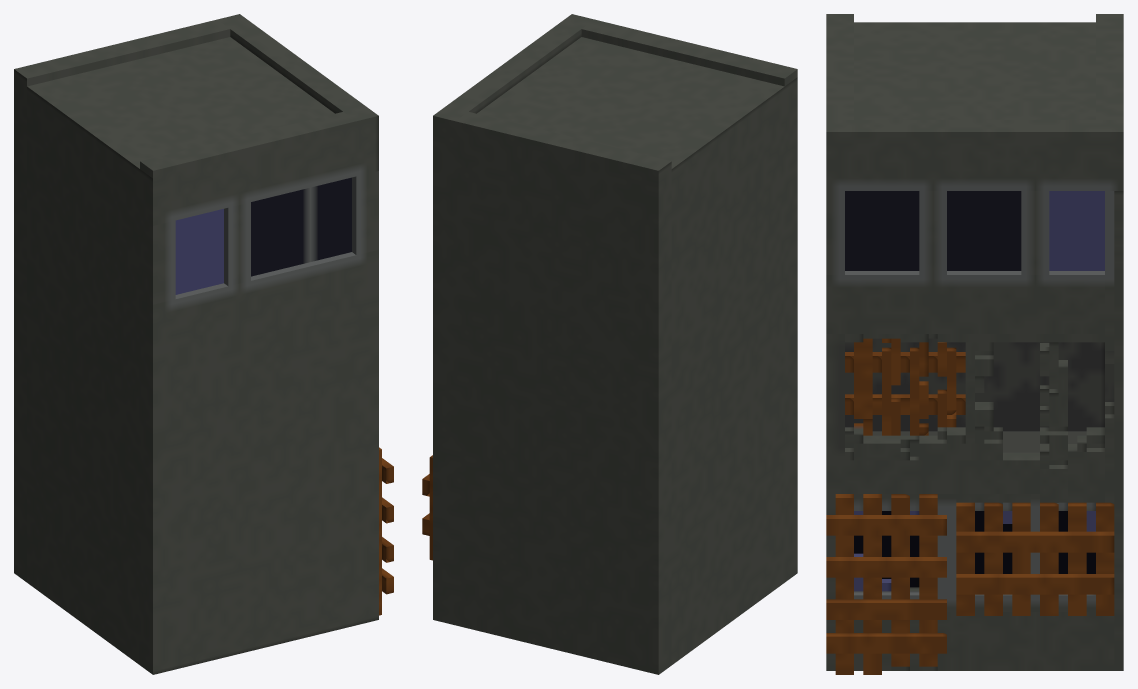
The model's file is u_dwie_strony_zniszczone.dae.
The picture shows the model from 3 angles, left to right: view 1: azimuth 30°, elevation 25°; view 2: azimuth 150°, elevation 25°; view 3: azimuth 270°, elevation 25°; orthographic projection. The views are drawn at different scales.
Visible parts, largest first — view 1: Content; view 2: Content; view 3: Content.
Boxes of the visible parts, x1,y1,x2,y2 form: Content: [14, 14, 393, 674]; Content: [422, 14, 797, 674]; Content: [826, 14, 1123, 674].
Size of the model in its own units: 32 by 64 by 32.
1 material, 1 textured.
